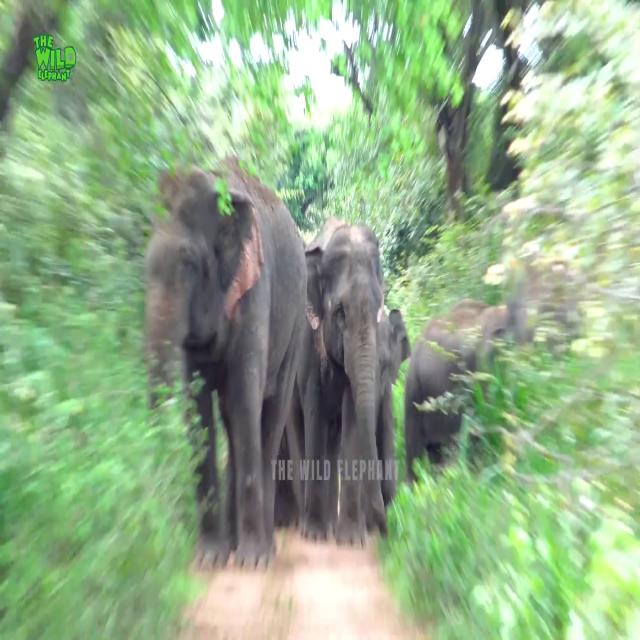Elephant: (143, 154, 309, 568), (285, 214, 389, 547)
